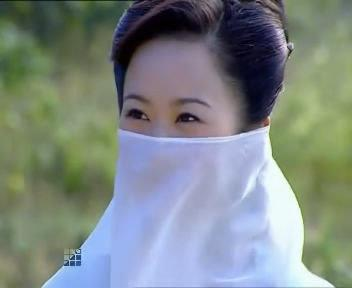OK: (121, 79, 245, 203)
